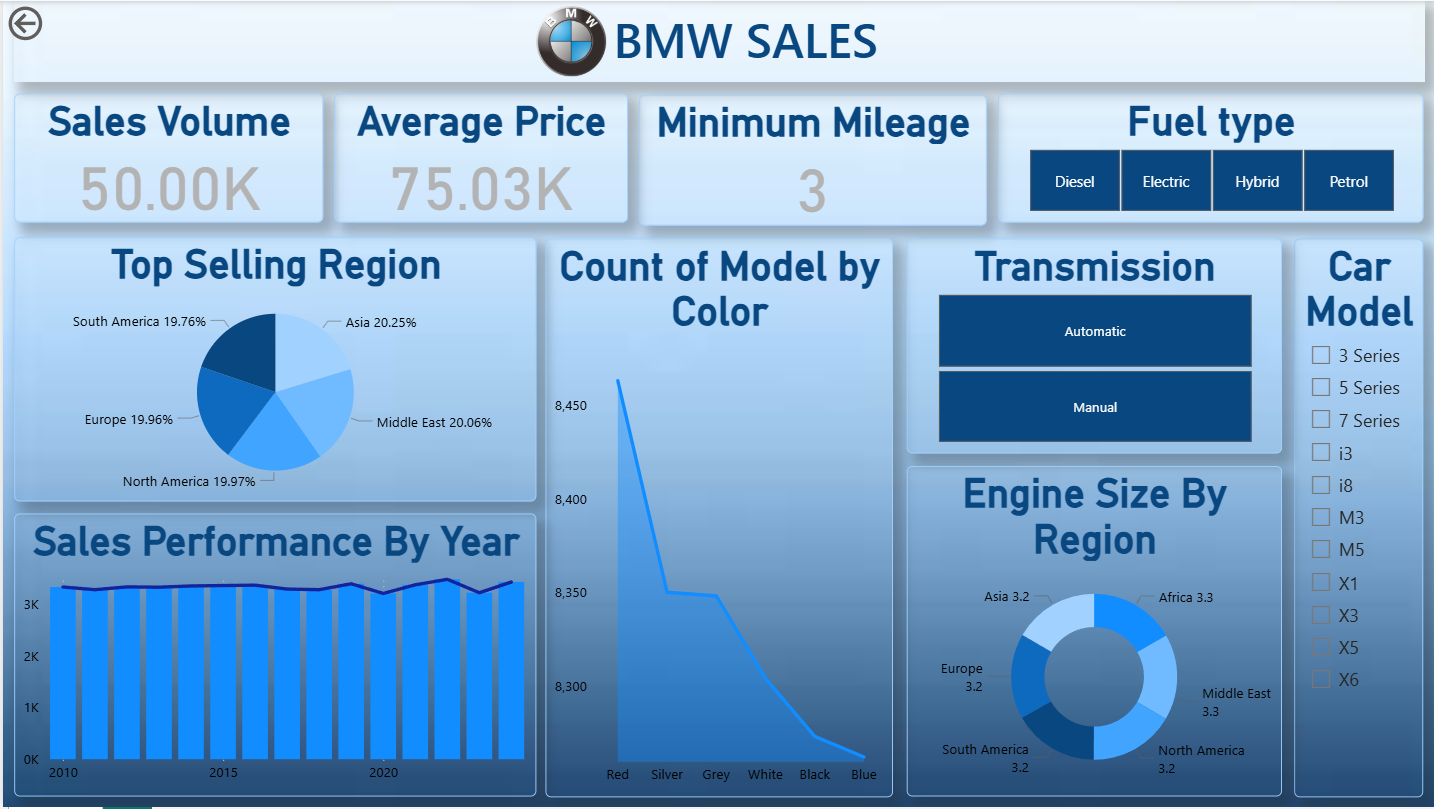

Layout of this report page (visuals, bound fields, positions):
{"tool":"powerbi","page":{"name":"Page 1","canvas":[1280,720],"ordinal":0},"visuals":[{"type":"textbox","box":[9.6,0,1259.7,72.7],"z":0},{"type":"image","box":[466.3,0,81.4,72.1],"z":1000},{"type":"card","title":"Sales Volume","fields":{"Values":["CountNonNull(Sheet1.Sales_Volume)"]},"box":[9.6,82.3,275.8,115.3],"z":2000},{"type":"card","title":"Average Price","fields":{"Values":["Avg(Sheet1.Price_USD)"]},"box":[296.4,82.3,262.1,115.3],"z":3000},{"type":"card","title":"Minimum Mileage","fields":{"Values":["Min(Sheet1.Mileage_KM)"]},"box":[568.1,83.7,310.1,116.6],"z":4000},{"type":"actionButton","box":[0,0,100,40],"z":5000},{"type":"slicer","title":"Car Model","fields":{"Values":["Sheet1.Model"]},"box":[1154,212.7,115.3,499.5],"z":6000},{"type":"slicer","title":"Fuel type","fields":{"Values":["Sheet1.Fuel_Type"]},"box":[889.2,82.3,380.1,115.3],"z":7000},{"type":"pieChart","title":"Top Selling Region","fields":{"Category":["Sheet1.Region"],"Y":["CountNonNull(Sheet1.Sales_Volume)"]},"box":[9.6,211.3,466.6,236],"z":8000},{"type":"lineStackedColumnComboChart","title":"Sales Performance By Year","fields":{"Category":["Sheet1.Year"],"Y":["CountNonNull(Sheet1.Sales_Volume)"],"Y2":["CountNonNull(Sheet1.Sales_Volume)"]},"box":[9.6,458.3,466.6,252.5],"z":9000},{"type":"areaChart","fields":{"Y":["CountNonNull(Sheet1.Model)"],"Category":["Sheet1.Color"]},"box":[484.4,212.7,310.1,499.5],"z":10000},{"type":"slicer","title":"Transmission","fields":{"Values":["Sheet1.Transmission"]},"box":[806.9,212.7,334.8,192.1],"z":11000},{"type":"donutChart","title":"Engine Size By Region","fields":{"Y":["Avg(Sheet1.Engine_Size_L)"],"Category":["Sheet1.Region"]},"box":[806.9,415.8,334.8,295],"z":12000}]}

Visuals, with their boxes in screenshot pixels (x1, y1, x2, y2), scaled from the page's 1280x720 canvas onto the 1434x809 screenshot:
textbox: bbox(11, 0, 1422, 82)
image: bbox(522, 0, 614, 81)
"Sales Volume" card: bbox(11, 92, 320, 222)
"Average Price" card: bbox(332, 92, 626, 222)
"Minimum Mileage" card: bbox(636, 94, 984, 225)
actionButton: bbox(0, 0, 112, 45)
"Car Model" slicer: bbox(1293, 239, 1422, 800)
"Fuel type" slicer: bbox(996, 92, 1422, 222)
"Top Selling Region" pieChart: bbox(11, 237, 533, 503)
"Sales Performance By Year" lineStackedColumnComboChart: bbox(11, 515, 533, 799)
areaChart - CountNonNull(Sheet1.Model) x Sheet1.Color: bbox(543, 239, 890, 800)
"Transmission" slicer: bbox(904, 239, 1279, 455)
"Engine Size By Region" donutChart: bbox(904, 467, 1279, 799)
